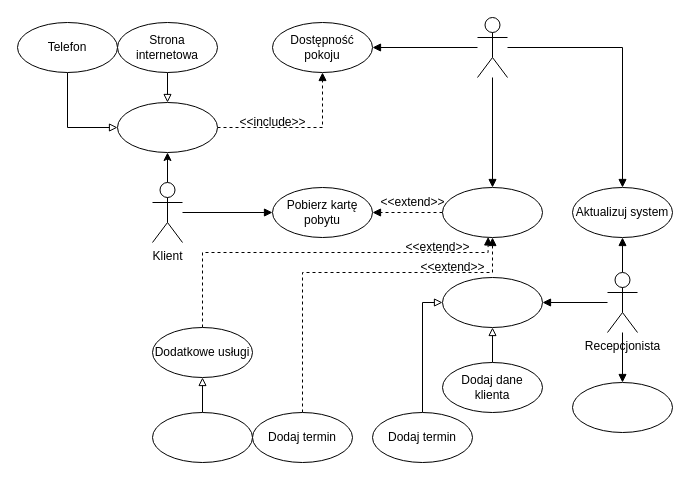
Some shapes in this 690 by 480 pixel diagram are drawn without their labels. The centre of each missing label's shape, as x and y in pixels:
"Aktualizuj dane karty" goes at point (492, 212).
"Generuj kartę pobytu" goes at point (492, 302).
"System" goes at point (492, 47).
"Wydaj kartę pobytu" goes at point (622, 407).
"Zamów jedzenie do pokoju" goes at point (202, 437).
"Zarezerwuj pokój" goes at point (167, 127).
